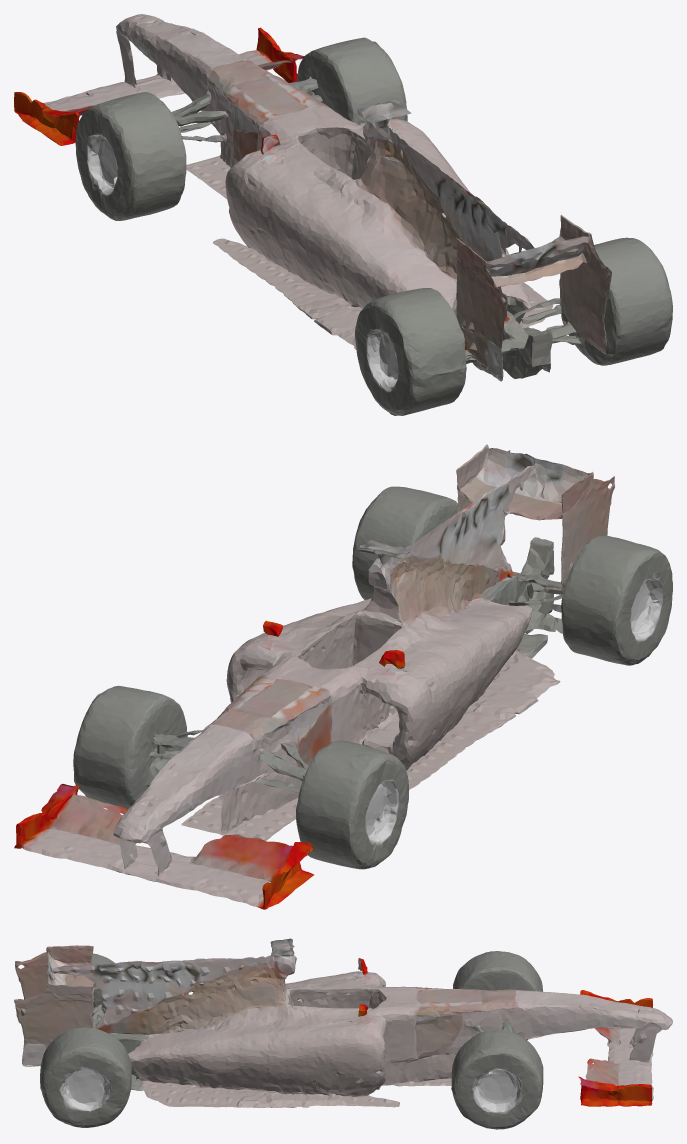
3 views of the same model, one above another, from view 1: azimuth 30°, elevation 25°; view 2: azimuth 150°, elevation 25°; view 3: azimuth 270°, elevation 25° (orthographic). The views are drawn at different scales.
Visible parts, largest first — view 1: defaultobject; view 2: defaultobject; view 3: defaultobject.
Part boxes in pixels (x1,y1,x2,y2): defaultobject: [14, 14, 672, 415]; defaultobject: [14, 444, 672, 909]; defaultobject: [14, 938, 672, 1129].
Size of the model in its own units: 0.3555 by 0.2182 by 0.9489.
